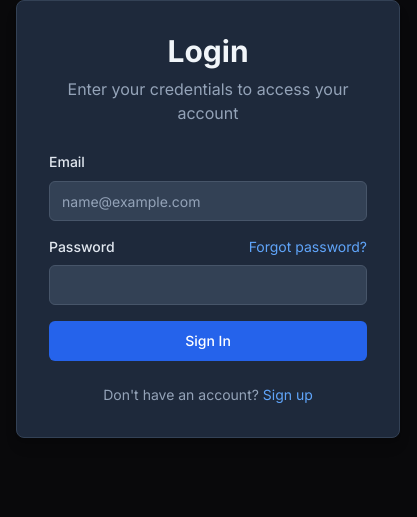
it: LoginForm › shows validation error for empty fields
The width and height of the screenshot is (417, 517).
Click the button "Sign In": (208, 341) left=49, top=321, right=367, bottom=361
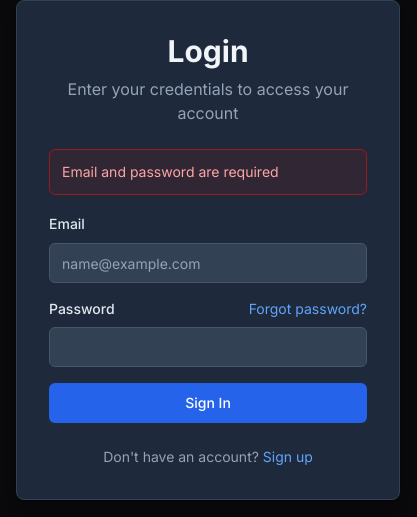
Check: the text "Email and password are required" is shown, box left=49, top=149, right=367, bottom=195
